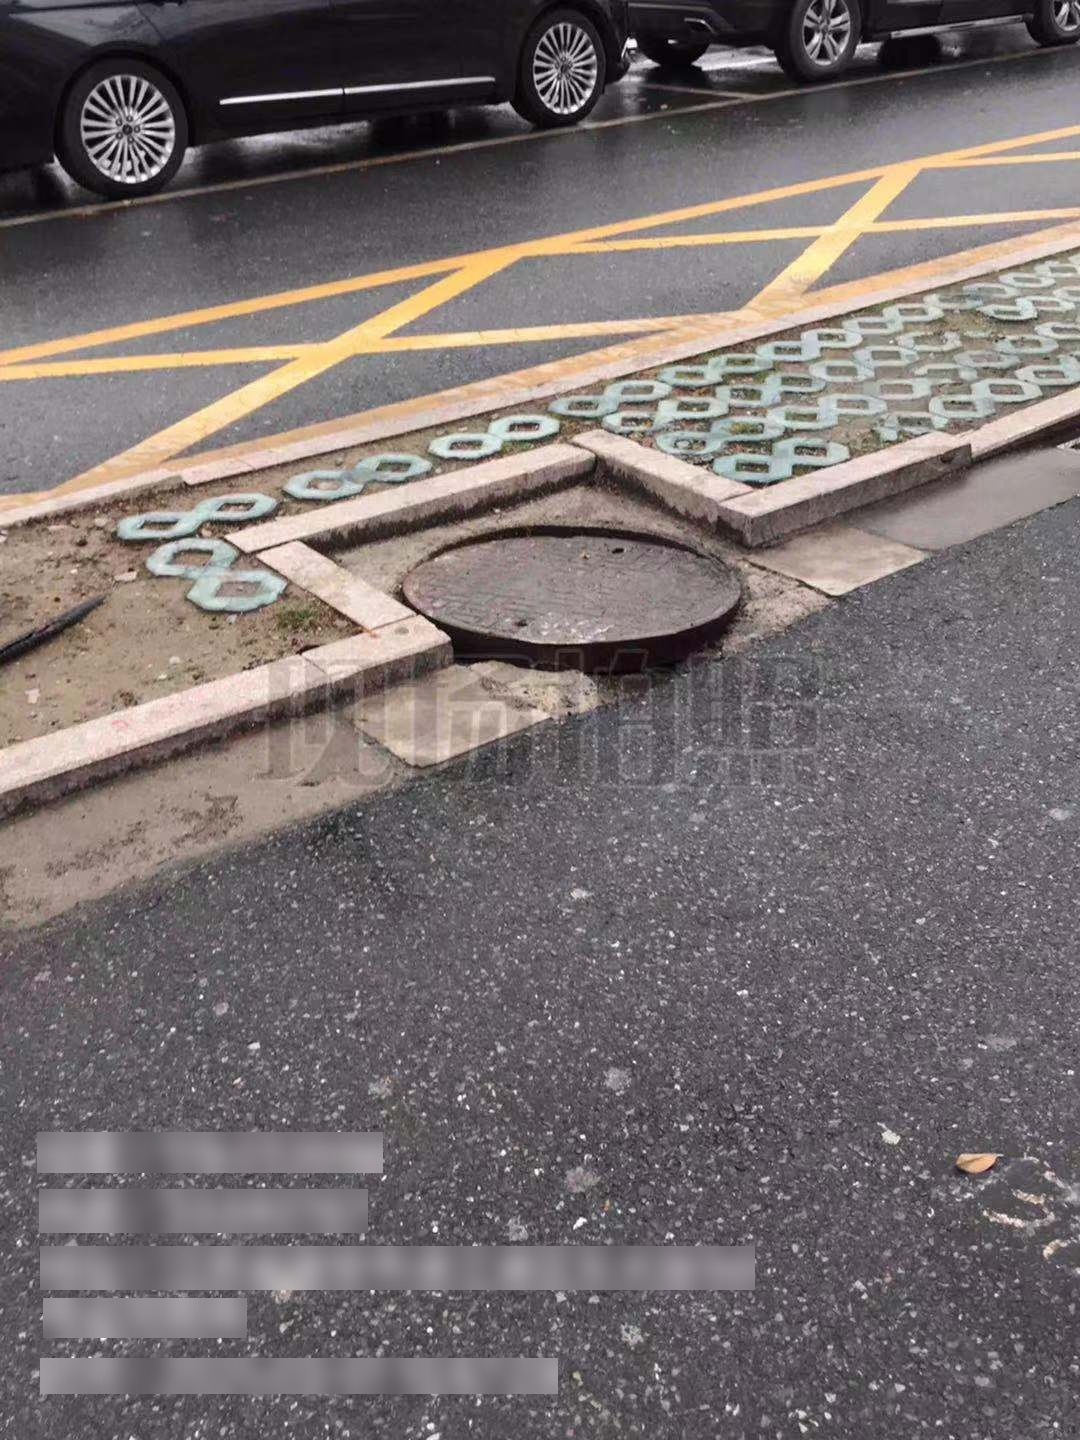uncovered: (398, 530, 745, 681)
